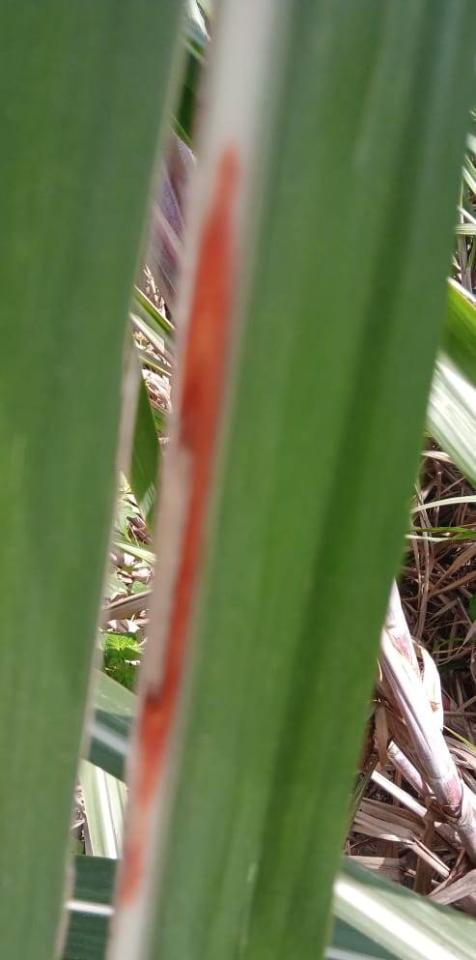RedRot: (118, 138, 232, 914)
